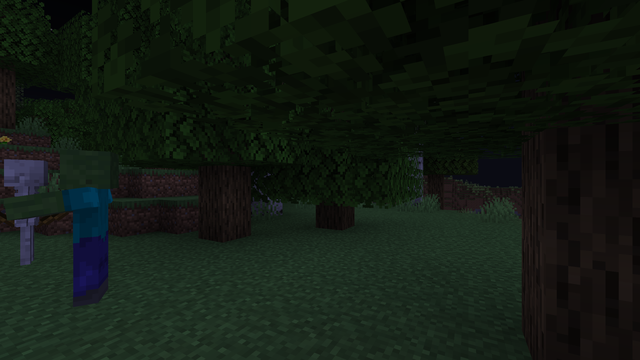squelettes: (1, 159, 46, 269)
zombies: (54, 152, 127, 311)
